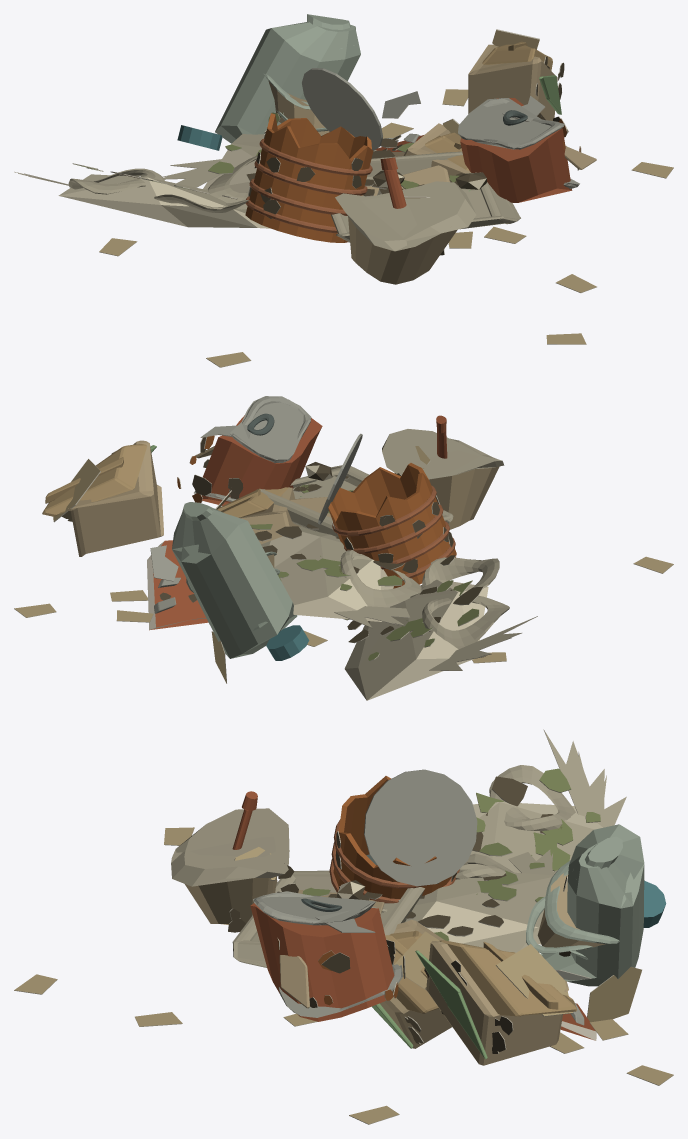
File: Dirty_Litter_Heap_2.glb
The picture shows the model from 3 angles, top to bottom: view 1: azimuth 30°, elevation 25°; view 2: azimuth 150°, elevation 25°; view 3: azimuth 270°, elevation 25°; orthographic projection. The views are drawn at different scales.
Visible parts, largest first — view 1: Litter; view 2: Litter; view 3: Litter.
Boxes of the visible parts, x1,y1,x2,y2 form: Litter: (14, 14, 673, 367); Litter: (14, 396, 673, 700); Litter: (14, 729, 673, 1124).
Size of the model in its own units: 1.26 by 0.4159 by 1.13.
